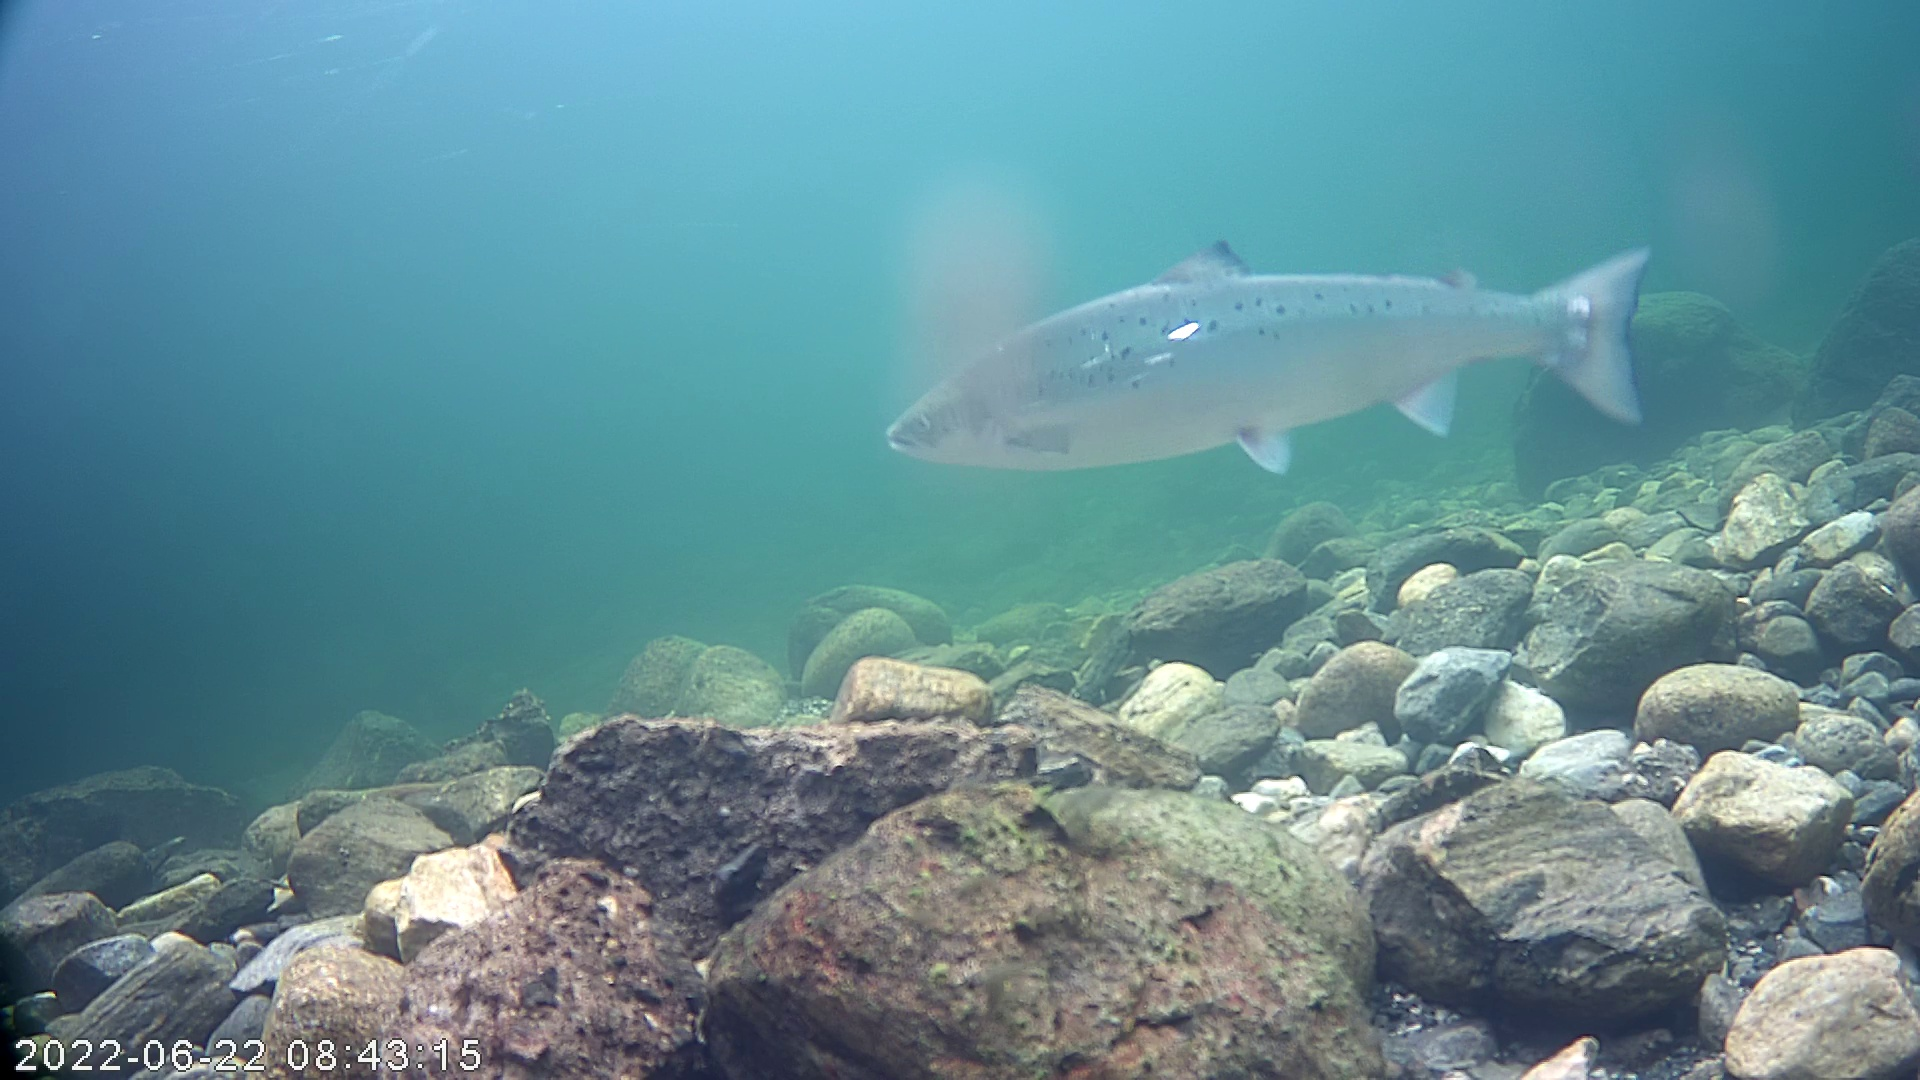salmon: (881, 233, 1658, 483)
